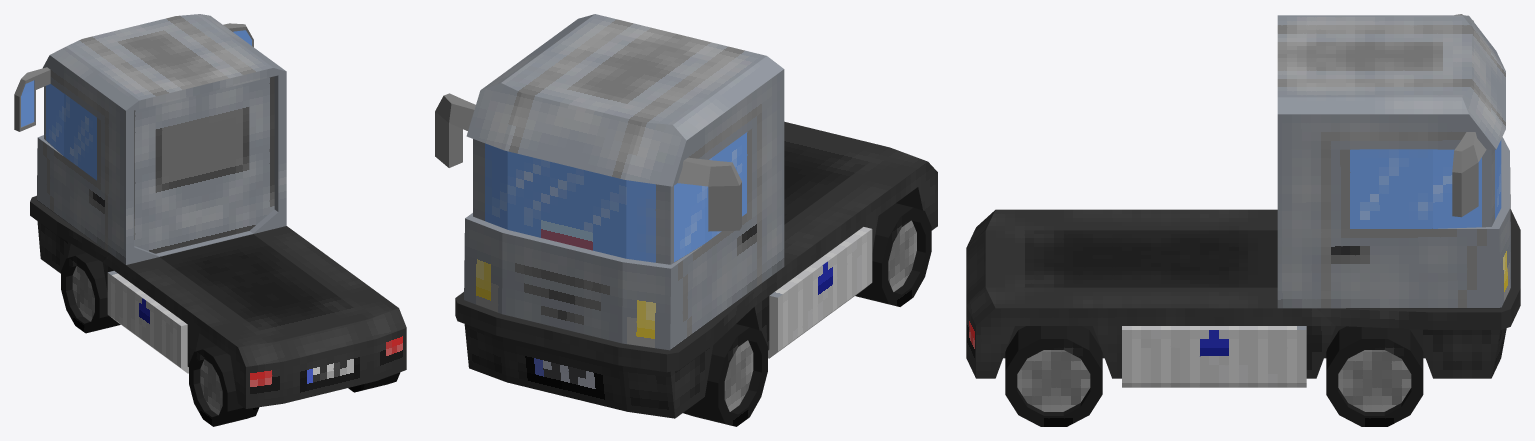
File: truck.gltf
The picture shows the model from 3 angles, left to right: view 1: azimuth 30°, elevation 25°; view 2: azimuth 150°, elevation 25°; view 3: azimuth 270°, elevation 25°; orthographic projection. The views are drawn at different scales.
Parts seen in each view (by area): view 1: cuboid, back_left_wheel, front_left_wheel, left mirror; view 2: cuboid, front_left_wheel, back_left_wheel, left mirror, right mirror; view 3: cuboid, back_right_wheel, front_right_wheel, right mirror.
Boxes of the visible parts, x1,y1,x2,y2 form: cuboid: [30, 14, 406, 408]; back_left_wheel: [189, 346, 259, 426]; front_left_wheel: [61, 253, 120, 333]; left mirror: [14, 67, 50, 131]; cuboid: [455, 14, 937, 418]; front_left_wheel: [683, 324, 767, 426]; back_left_wheel: [855, 203, 931, 306]; left mirror: [677, 157, 741, 231]; right mirror: [435, 93, 475, 167]; cuboid: [966, 15, 1520, 387]; back_right_wheel: [1005, 326, 1102, 426]; front_right_wheel: [1326, 326, 1423, 426]; right mirror: [1452, 132, 1486, 217].
Size of the model in its own units: 2.22 by 2.25 by 3.56.
Materials: 3 (3 with a texture image).
